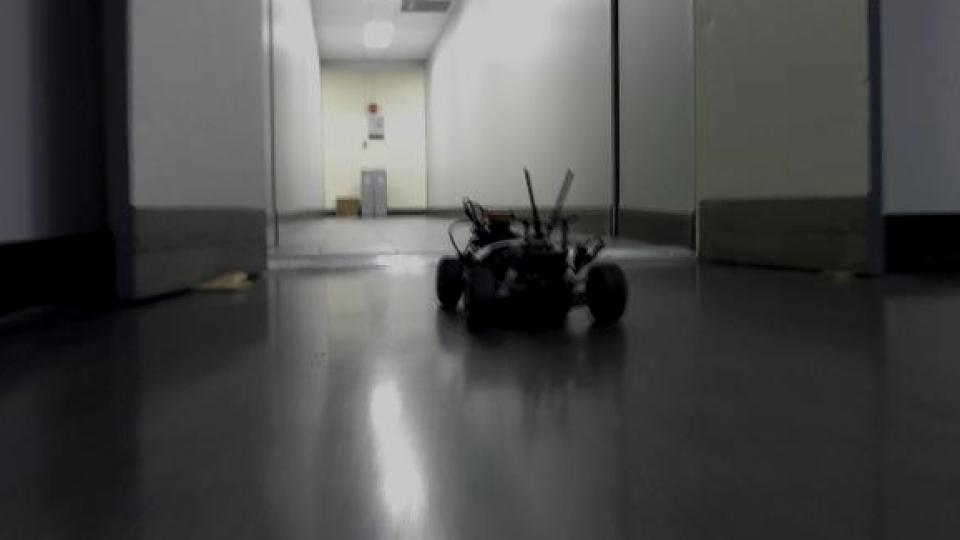car: (433, 163, 633, 335)
